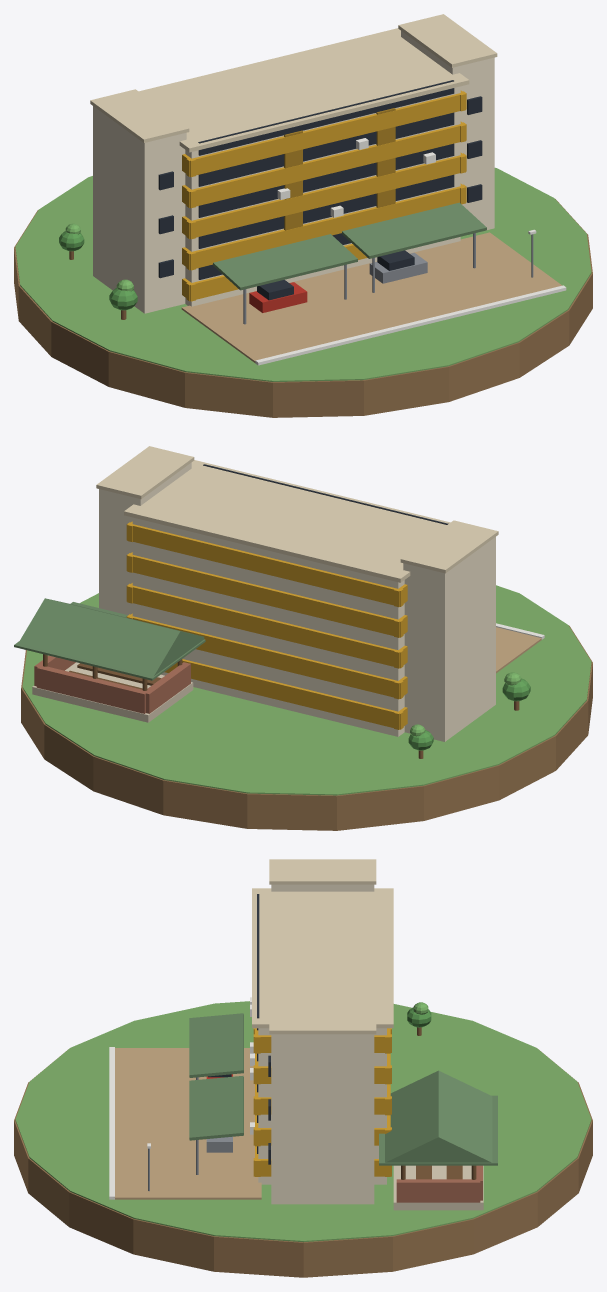
The model's file is tent.glb.
The picture shows the model from 3 angles, top to bottom: view 1: azimuth 30°, elevation 25°; view 2: azimuth 150°, elevation 25°; view 3: azimuth 270°, elevation 25°; orthographic projection.
Parts seen in each view (by area): view 1: tent; view 2: tent; view 3: tent.
Part boxes in pixels (<box>): tent: <box>14,14,592,417</box>; tent: <box>14,446,592,830</box>; tent: <box>14,859,592,1277</box>.
Size of the model in its own units: 18 by 7.22 by 18.
